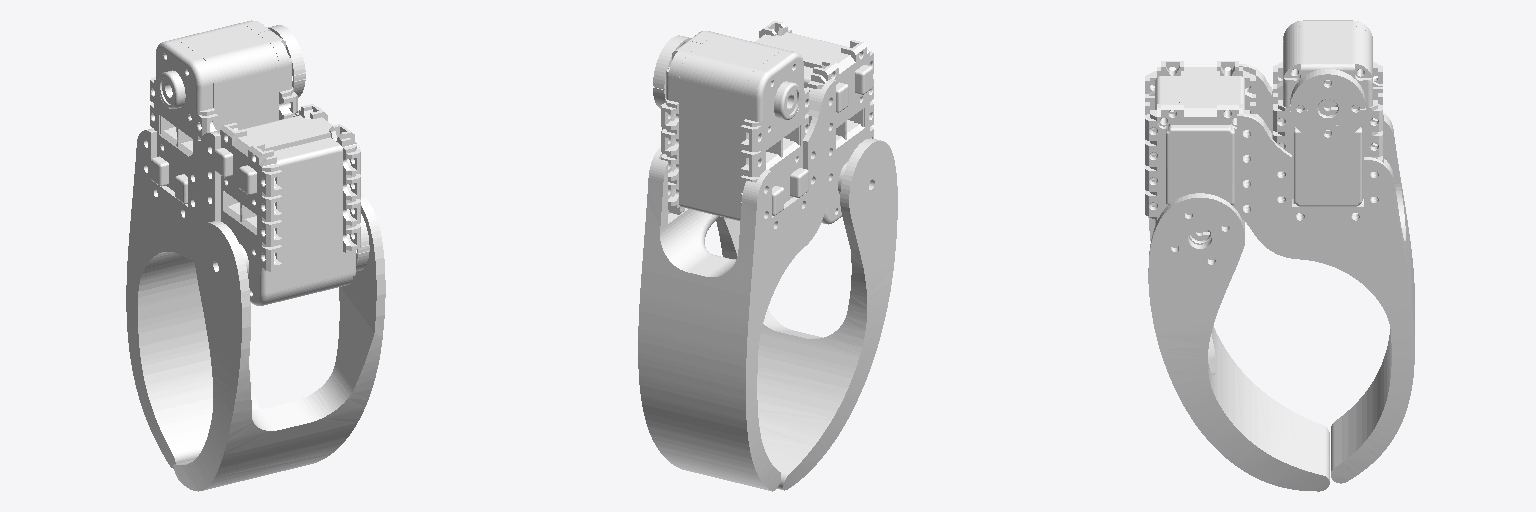
URDF robot description (Reachy):
<?xml version="1.0" ?>
<robot name="Reachy">
    <material name="blue">
        <color rgba="0 0 0.8 1" />
    </material>
    <material name="white">
        <color rgba="1 1 1 1" />
    </material>
    <material name="red">
        <color rgba="0.8 0 0 1" />
    </material>
    <link name="base">
        <visual>
            <geometry>
                <mesh filename="package://reachy_urdf/meshes/shoulder-y-visual.stl" />
            </geometry>
            <material name="blue" />
        </visual>
        
<inertial>
            <inertia ixx="1.043e-4" ixy="6.147e-6" ixz="-1.971e-6" iyy="1.364e-4" iyz="1.466e-5" izz="1.403e-4" />
            <mass value="0.221" />
        </inertial>

        <collision>
            <origin xyz="0 0 0" rpy="0 0 0" />
            <geometry>
                <mesh filename="package://reachy_urdf/meshes/shoulder-y-respondable.stl" />
            </geometry>
        </collision>
    </link>
    <link name="shoulder">
        <visual>
            <origin xyz="0 0 0" rpy="0 0 0" />
            <geometry>
                <mesh filename="package://reachy_urdf/meshes/shoulder-visual.stl" />
            </geometry>
            <material name="white" />
        </visual>
        
<inertial>
            <inertia ixx="1.299e-5" ixy="5.557e-10" ixz="-2.973e-10" iyy="2.323e-5" iyz="-8.199e-8" izz="2.227e-5" />
            <mass value="0.036" />
        </inertial>

        <collision>
            <origin xyz="0 0 0" rpy="0 0 0" />
            <geometry>
                <mesh filename="package://reachy_urdf/meshes/shoulder-respondable.stl" />
            </geometry>
        </collision>
    </link>
    <link name="shoulder_to_arm">
        <visual>
            <geometry>
                <mesh filename="package://reachy_urdf/meshes/shoulder-x-visual.stl" />
            </geometry>
            <origin rpy="0 0 0" xyz="0 0 0" />
            <material name="blue" />
        </visual>
        
<inertial>
            <inertia ixx="6.811e-5" ixy="-2.299e-10" ixz="-4.502e-7" iyy="7.593e-5" iyz="-1.674e-9" izz="4.248e-5" />
            <mass value="0.155" />
        </inertial>

        <collision>
            <origin xyz="0 0 0" rpy="0 0 0" />
            <geometry>
                <mesh filename="package://reachy_urdf/meshes/shoulder-x-respondable.stl" />
            </geometry>
        </collision>
    </link>
    <link name="upper_arm">
        <visual>
            <geometry>
                <mesh filename="package://reachy_urdf/meshes/upper-arm-visual.stl" />
            </geometry>
            <origin rpy="0 0 0" xyz="0 0 0" />
            <material name="white" />
        </visual>
        
<inertial>
            <inertia ixx="4.171e-3" ixy="1.333e-7" ixz="-2.900e-4" iyy="4.276e-3" iyz="1.465e-6" izz="3.177e-4" />
            <mass value="0.430" />
        </inertial>

        <collision>
            <origin xyz="0 0 0" rpy="0 0 0" />
            <geometry>
                <mesh filename="package://reachy_urdf/meshes/upper-arm-respondable.stl" />
            </geometry>
        </collision>
    </link>
    <link name="forearm">
        <visual>
            <origin xyz="0 0 0" rpy="0 0 0" />
            <geometry>
                <mesh filename="package://reachy_urdf/meshes/forearm-visual.stl" />
            </geometry>
            <origin rpy="0 0 0" xyz="0 0 0" />
            <material name="blue" />
        </visual>
        
<inertial>
            <inertia ixx="1.724e-4" ixy="-1.733e-8" ixz="1.854e-5" iyy="1.815e-4" iyz="-4.191e-8" izz="9.299e-5" />
            <mass value="0.129" />
        </inertial>

        <collision>
            <origin xyz="0 0 0" rpy="0 0 0" />
            <geometry>
                <mesh filename="package://reachy_urdf/meshes/forearm-respondable.stl" />
            </geometry>
        </collision>
    </link>
    <link name="wrist">
        <visual>
            <origin xyz="0 0 0" rpy="0 0 0" />
            <geometry>
                <mesh filename="package://reachy_urdf/meshes/wrist-visual.stl" />
            </geometry>
            <origin rpy="0 0 0" xyz="0 0 0" />
            <material name="white" />
        </visual>
        
<inertial>
            <inertia ixx="2.215e-4" ixy="-2.163e-8" ixz="-4.702e-6" iyy="2.306e-4" iyz="-6.577e-7" izz="5.075e-5" />
            <mass value="0.115" />
        </inertial>

        <collision>
            <origin xyz="0 0 0" rpy="0 0 0" />
            <geometry>
                <mesh filename="package://reachy_urdf/meshes/wrist-respondable.stl" />
            </geometry>
        </collision>
    </link>
    <link name="wrist_hand">
        <visual>
            <geometry>
                <mesh filename="package://reachy_urdf/meshes/wrist-hand-visual.stl" />
            </geometry>
            <origin rpy="0 0 0" xyz="0 0 0" />
            <material name="blue" />
        </visual>
        
<inertial>
            <inertia ixx="3.861e-6" ixy="-2.805e-9" ixz="-8.067e-8" iyy="3.694e-6" iyz="-7.689e-8" izz="4.987e-6" />
            <mass value="0.009" />
        </inertial>

        <collision>
            <origin xyz="0 0 0" rpy="0 0 0" />
            <geometry>
                <mesh filename="package://reachy_urdf/meshes/wrist-hand-respondable.stl" />
            </geometry>
        </collision>
    </link>
    <link name="hand">
        <visual>
            <geometry>
                <mesh filename="package://reachy_urdf/meshes/Format.stl" />
            </geometry>
            <origin rpy="0 0 0" xyz="-0.0575 0.00315 -0.0746" />
            <material name="white" />
        </visual>
        
<inertial>
            <inertia ixx="4.177e-5" ixy="2.340e-9" ixz="3.492e-8" iyy="4.290e-5" iyz="-2.318e-11" izz="3.596e-5" />
            <mass value="0.090" />
        </inertial>

    </link>
    <!--   <link name="ball">
    <visual>
      <geometry>
        <sphere radius="0.02"/>
      </geometry>
      <origin rpy="0 0 0" xyz="0 0 0"/>
      <material name="red"/>
    </visual>
  </link> -->
    <joint name="shoulder_pitch" type="revolute">
        <parent link="base" />
        <child link="shoulder" />
        <origin rpy="0 0 0" xyz="0 -0.04 0" />
        <axis xyz="0 1 0" />
        <limit effort="300" velocity="1" lower="-1.5708" upper="3.14159" />
    </joint>
    <joint name="shoulder_roll" type="revolute">
        <parent link="shoulder" />
        <child link="shoulder_to_arm" />
        <origin rpy="0 0 0" xyz="0 0 0" />
        <axis xyz="1 0 0" />
        <limit effort="300" velocity="1" lower="-3.14159" upper="0.174533" />
    </joint>
    <joint name="arm_yaw" type="revolute">
        <parent link="shoulder_to_arm" />
        <child link="upper_arm" />
        <origin rpy="0 0 0" xyz="0 0 0" />
        <axis xyz="0 0 1" />
        <limit effort="300" velocity="1" lower="-1.5708" upper="1.5708" />
    </joint>
    <joint name="elbow_pitch" type="revolute">
        <parent link="upper_arm" />
        <child link="forearm" />
        <origin rpy="0 0 0" xyz="0 0 -0.30745" />
        <axis xyz="0 1 0" />
        <limit effort="300" velocity="1" lower="-2.18166" upper="0" />
    </joint>
    <joint name="forearm_yaw" type="revolute">
        <parent link="forearm" />
        <child link="wrist" />
        <origin rpy="0 0 0" xyz="0 0 0" />
        <axis xyz="0 0 1" />
        <limit effort="300" velocity="1" lower="-2.61799" upper="2.61799" />
    </joint>
    <joint name="wrist_pitch" type="revolute">
        <parent link="wrist" />
        <child link="wrist_hand" />
        <origin rpy="0 0 0" xyz="0 0 -0.22425" />
        <axis xyz="0 1 0" />
        <limit effort="300" velocity="1" lower="-1.22173" upper="1.22173" />
    </joint>
    <joint name="wrist_roll" type="revolute">
        <parent link="wrist_hand" />
        <child link="hand" />
        <origin rpy="0 0 0" xyz="0 0 -0.03243" />
        <axis xyz="1 0 0" />
        <limit effort="300" velocity="1" lower="-1.0472" upper="1.0472" />
    </joint>
    
<transmission name="trans_shoulder_pitch">
        <type>transmission_interface/SimpleTransmission</type>
        <joint name="shoulder_pitch">
            <hardwareInterface>hardware_interface/PositionJointInterface</hardwareInterface>
        </joint>
        <actuator name="shoulder_pitch_motor">
            <hardwareInterface>hardware_interface/PositionJointInterface</hardwareInterface>
            <mechanicalReduction>1</mechanicalReduction>
        </actuator>
    </transmission>
    <transmission name="trans_shoulder_roll">
        <type>transmission_interface/SimpleTransmission</type>
        <joint name="shoulder_roll">
            <hardwareInterface>hardware_interface/PositionJointInterface</hardwareInterface>
        </joint>
        <actuator name="shoulder_roll_motor">
            <hardwareInterface>hardware_interface/PositionJointInterface</hardwareInterface>
            <mechanicalReduction>1</mechanicalReduction>
        </actuator>
    </transmission>
    <transmission name="trans_arm_yaw">
        <type>transmission_interface/SimpleTransmission</type>
        <joint name="arm_yaw">
            <hardwareInterface>hardware_interface/PositionJointInterface</hardwareInterface>
        </joint>
        <actuator name="arm_yaw_motor">
            <hardwareInterface>hardware_interface/PositionJointInterface</hardwareInterface>
            <mechanicalReduction>1</mechanicalReduction>
        </actuator>
    </transmission>
    <transmission name="trans_elbow_pitch">
        <type>transmission_interface/SimpleTransmission</type>
        <joint name="elbow_pitch">
            <hardwareInterface>hardware_interface/PositionJointInterface</hardwareInterface>
        </joint>
        <actuator name="elbow_pitch_motor">
            <hardwareInterface>hardware_interface/PositionJointInterface</hardwareInterface>
            <mechanicalReduction>1</mechanicalReduction>
        </actuator>
    </transmission>
    <transmission name="trans_forearm_yaw">
        <type>transmission_interface/SimpleTransmission</type>
        <joint name="forearm_yaw">
            <hardwareInterface>hardware_interface/PositionJointInterface</hardwareInterface>
        </joint>
        <actuator name="forearm_yaw_motor">
            <hardwareInterface>hardware_interface/PositionJointInterface</hardwareInterface>
            <mechanicalReduction>1</mechanicalReduction>
        </actuator>
    </transmission>
    <transmission name="trans_wrist_pitch">
        <type>transmission_interface/SimpleTransmission</type>
        <joint name="wrist_pitch">
            <hardwareInterface>hardware_interface/PositionJointInterface</hardwareInterface>
        </joint>
        <actuator name="wrist_pitch_motor">
            <hardwareInterface>hardware_interface/PositionJointInterface</hardwareInterface>
            <mechanicalReduction>1</mechanicalReduction>
        </actuator>
    </transmission>
    <transmission name="trans_wrist_roll">
        <type>transmission_interface/SimpleTransmission</type>
        <joint name="wrist_roll">
            <hardwareInterface>hardware_interface/PositionJointInterface</hardwareInterface>
        </joint>
        <actuator name="wrist_roll_motor">
            <hardwareInterface>hardware_interface/PositionJointInterface</hardwareInterface>
            <mechanicalReduction>1</mechanicalReduction>
        </actuator>
    </transmission>
    <gazebo>
        <plugin name="gazebo_ros_control" filename="libgazebo_ros_control.so">
            <robotNamespace>/</robotNamespace>
        </plugin>
    </gazebo>
</robot>

--- Render facts (derived) ---
3 views of the same robot in one strip: view 1: azimuth 30°, elevation 25°; view 2: azimuth 150°, elevation 25°; view 3: azimuth 270°, elevation 25° (orthographic).
Robot: Reachy — 8 links, 7 joints (7 revolute); root link base; default pose: all joints at 0.
Visible links, largest first — view 1: hand; view 2: hand; view 3: hand.
Boxes of the visible links, bbox=[...] form: hand: bbox=[126, 20, 385, 491]; hand: bbox=[638, 21, 897, 491]; hand: bbox=[1145, 20, 1414, 491].
Size in the robot's own frame: 0.048 by 0.0782 by 0.1363 metres.
1 mesh visuals loaded from 8 distinct referenced files (1 binary STL); not drawn: 7 (reference not matched to a file when rendering).